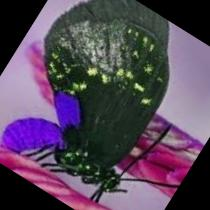butterfly: (2, 0, 168, 192)
